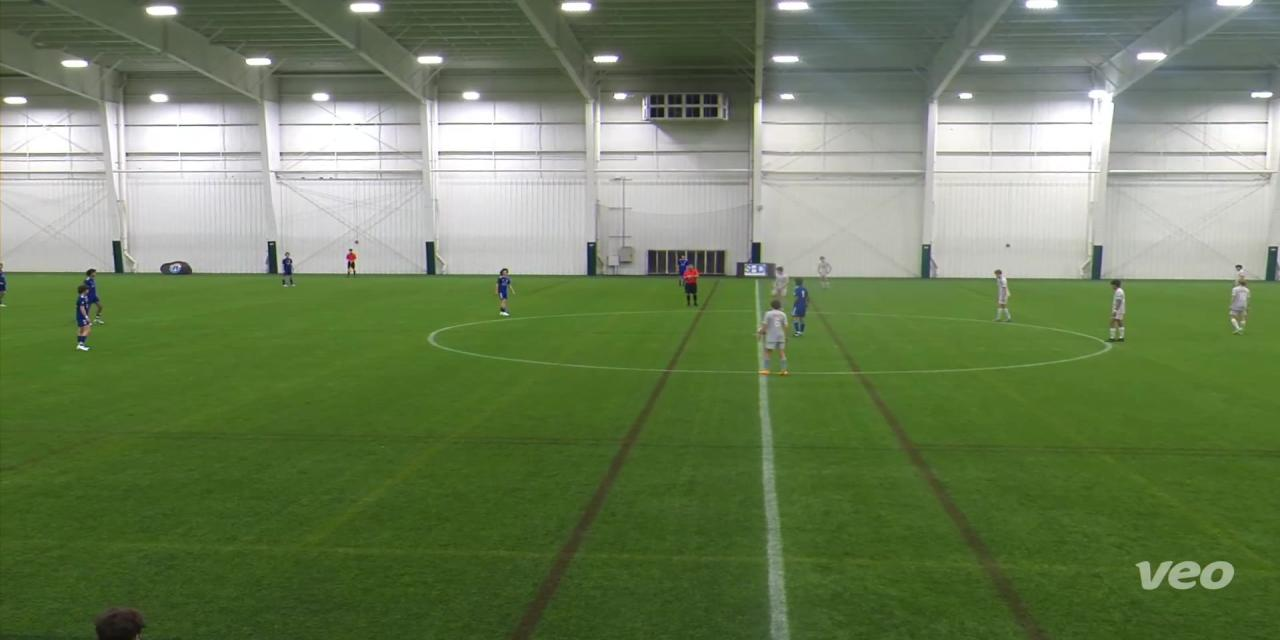sports ball: (752, 318, 772, 346)
